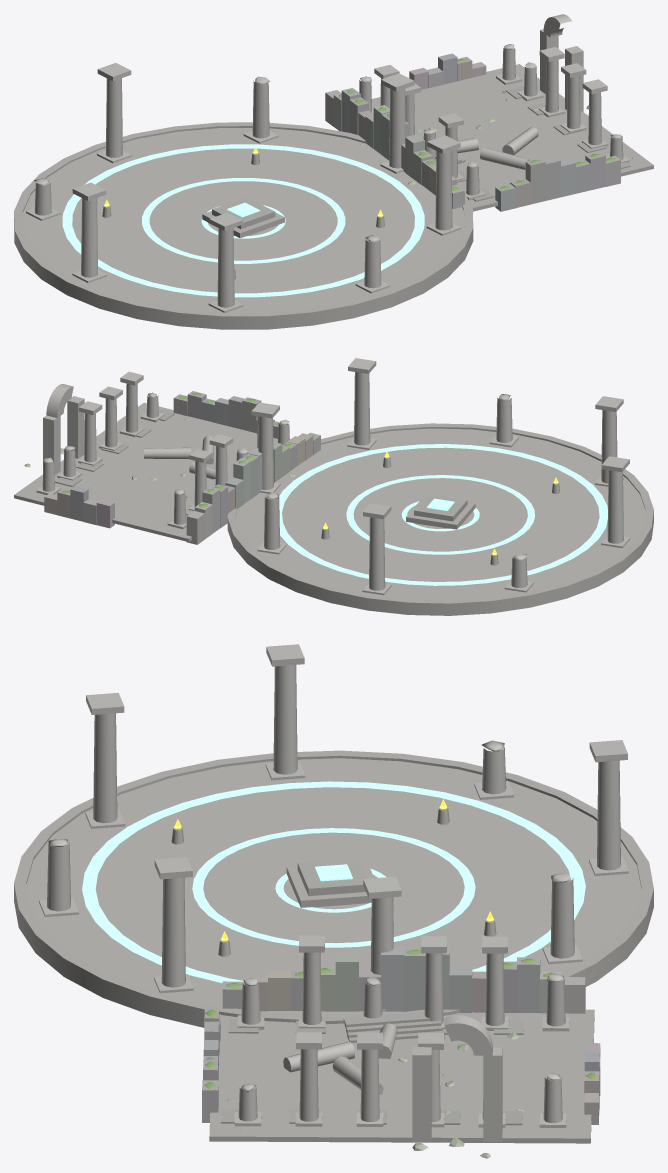
The model's file is struct_2_5.glb.
3 renders of one model, top to bottom at view 1: azimuth 30°, elevation 25°; view 2: azimuth 150°, elevation 25°; view 3: azimuth 270°, elevation 25°, orthographic. The views are drawn at different scales.
Parts seen in each view (by area): view 1: Landmarks; view 2: Landmarks; view 3: Landmarks.
Boxes of the visible parts, x1,y1,x2,y2 form: Landmarks: [14, 14, 653, 329]; Landmarks: [14, 358, 653, 615]; Landmarks: [14, 644, 653, 1158].
Bounding box in the file's own units: 69.91 × 11 × 46.99.
